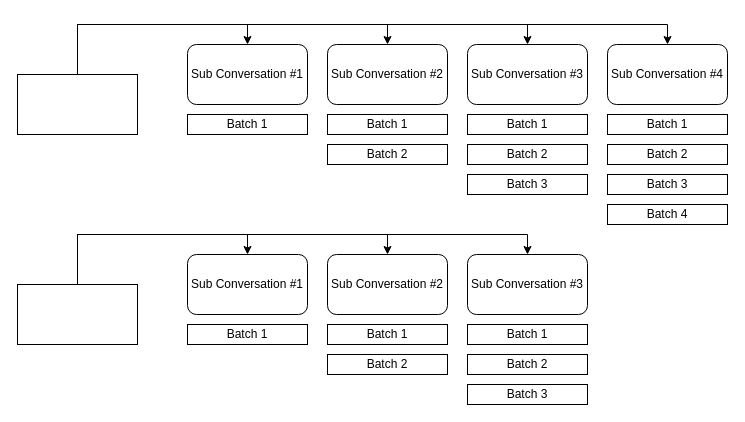
The diagram is 745 pixels wide and 422 high, and some of its shapes have lost their labels. Each missing label, with the centre of its shape:
"Conversation #1 Batches: 4" goes at [77,104].
"Conversation #2 Batches: 3" goes at [77,314].
